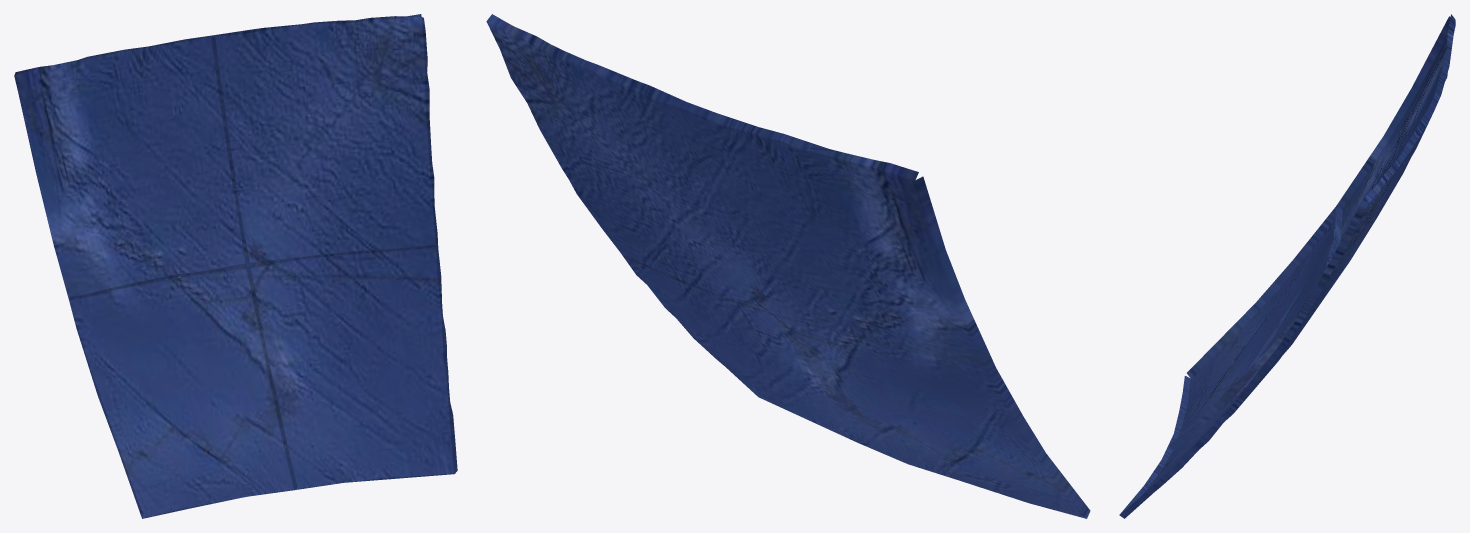
The picture shows the model from 3 angles, left to right: view 1: azimuth 30°, elevation 25°; view 2: azimuth 150°, elevation 25°; view 3: azimuth 270°, elevation 25°; orthographic projection. The views are drawn at different scales.
Bounding box in the file's own units: 2285775 × 2102800 × 1757687.
Materials: 1 (1 with a texture image).
